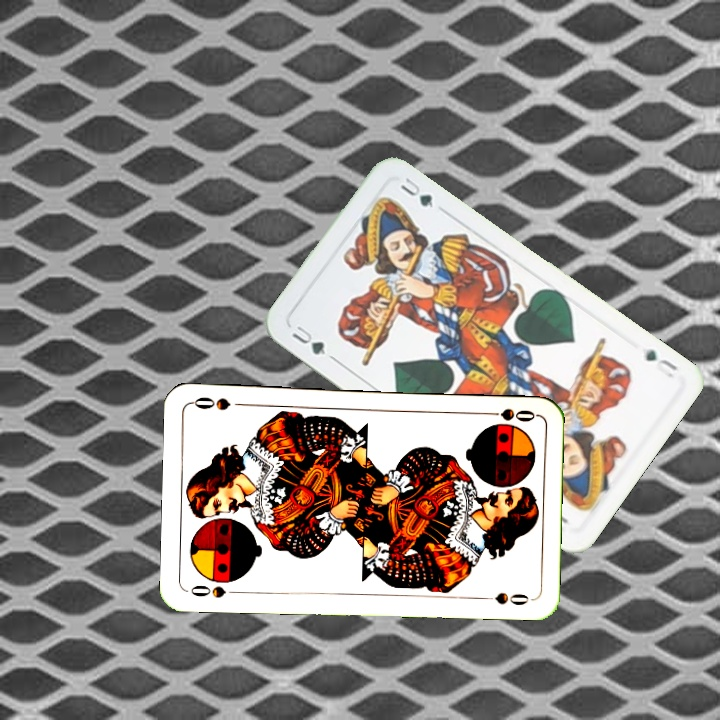GU: (287, 321, 328, 358), (641, 344, 681, 381)
SO: (479, 404, 538, 425), (186, 580, 243, 600)
